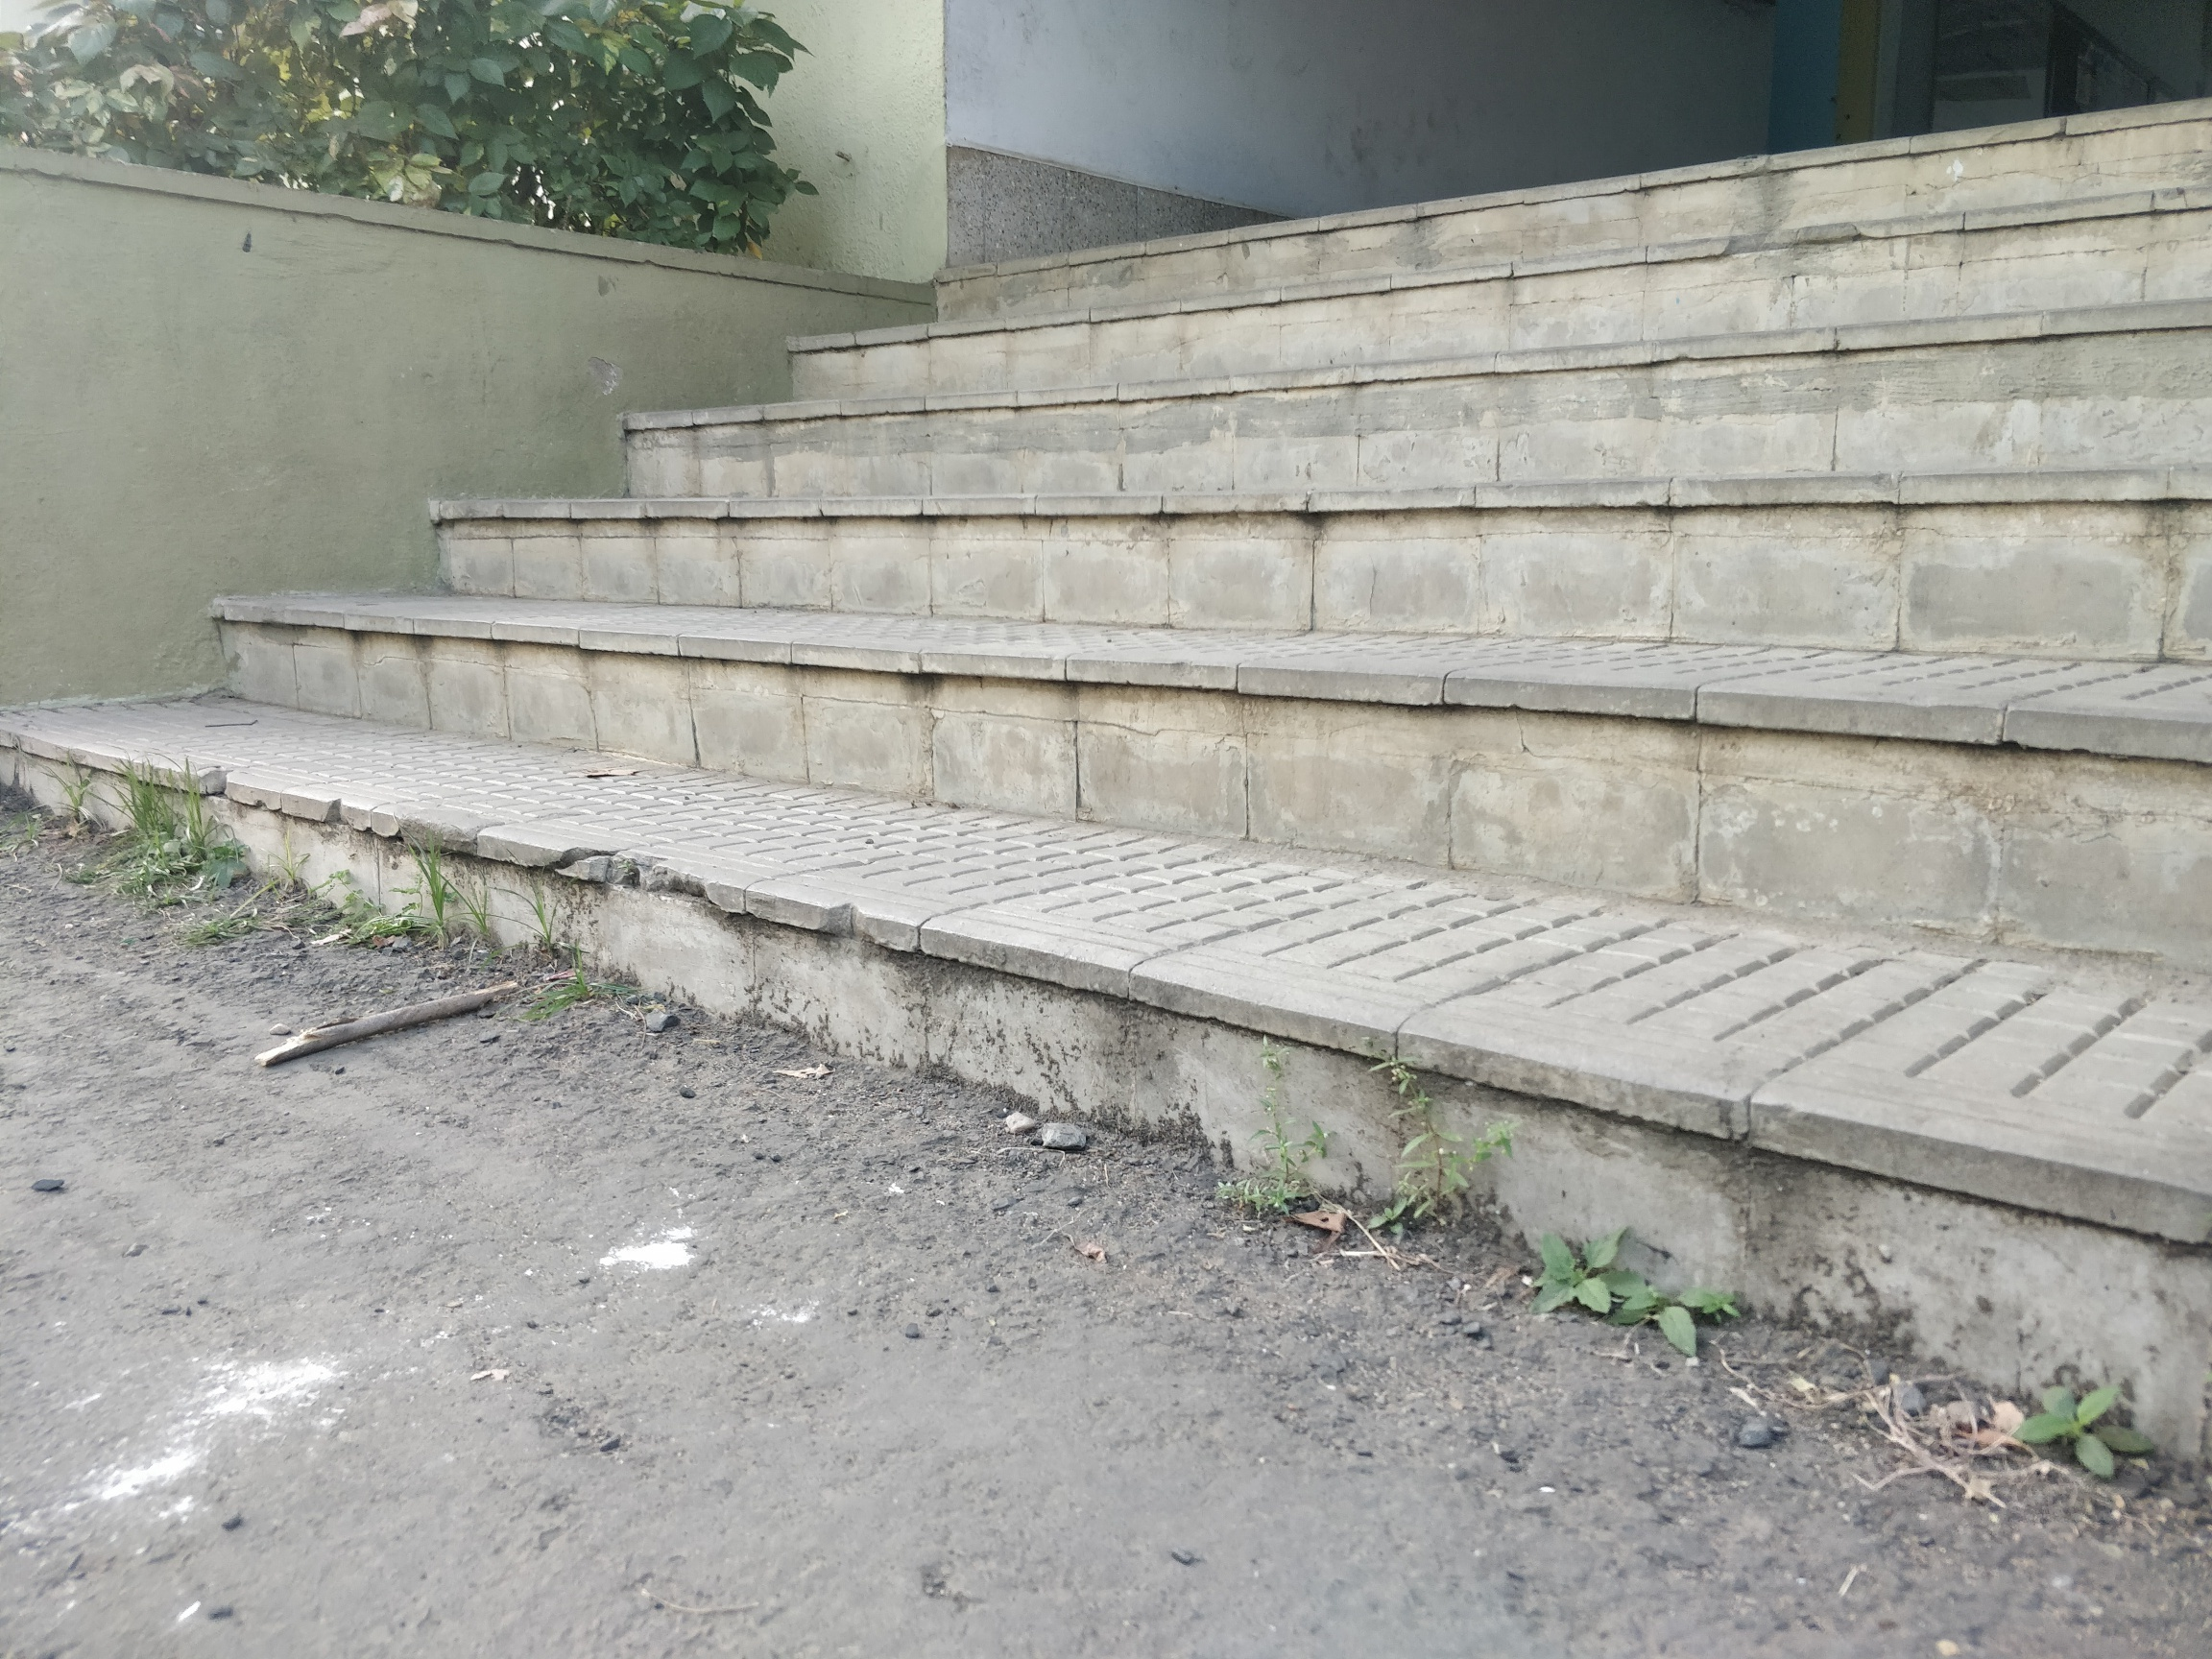stairs_up: (23, 80, 2205, 1077)
